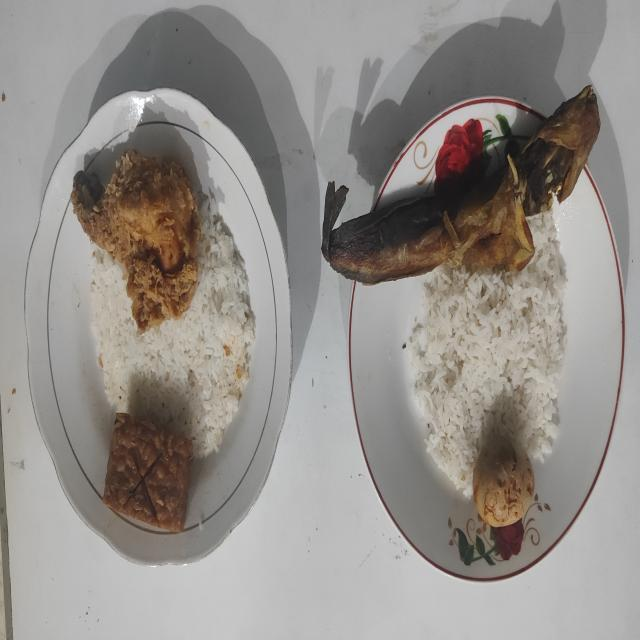nasi_putih: (409, 212, 566, 496), (90, 199, 256, 458)
tempe_goreng: (102, 412, 192, 532)
